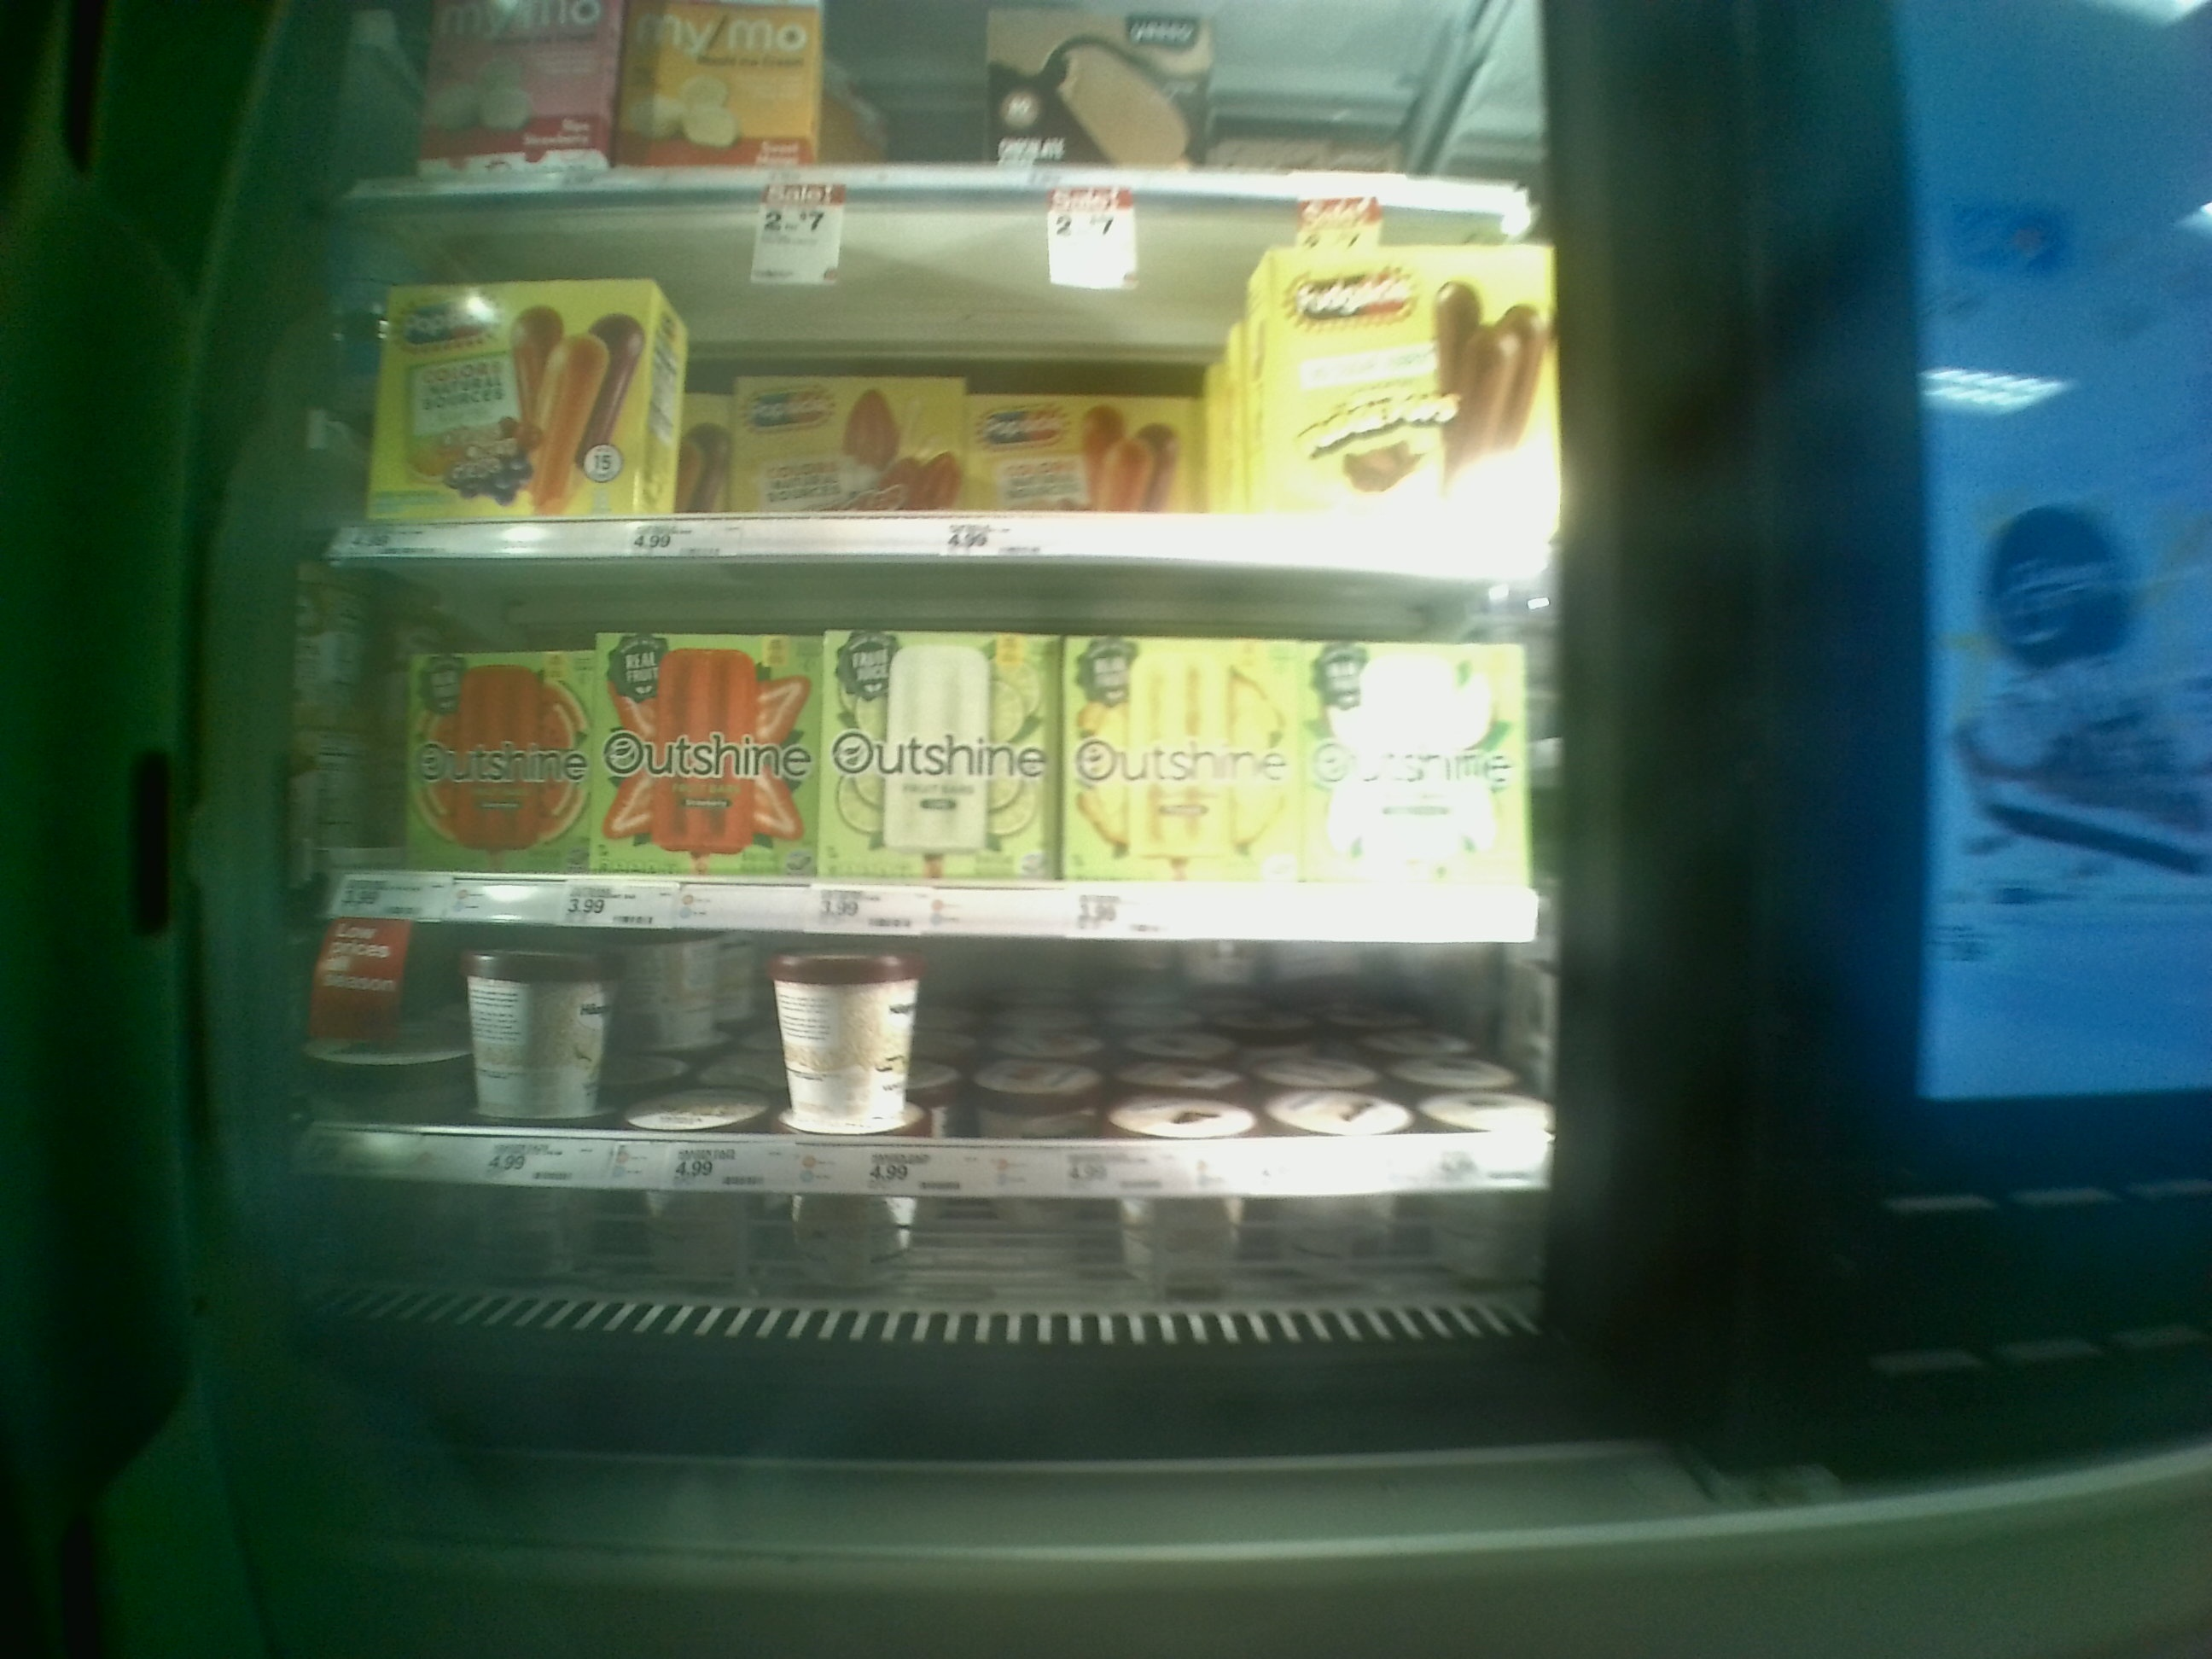ice-cream-shelf: (331, 575, 1564, 938), (343, 202, 1555, 568), (324, 922, 1571, 1256)
